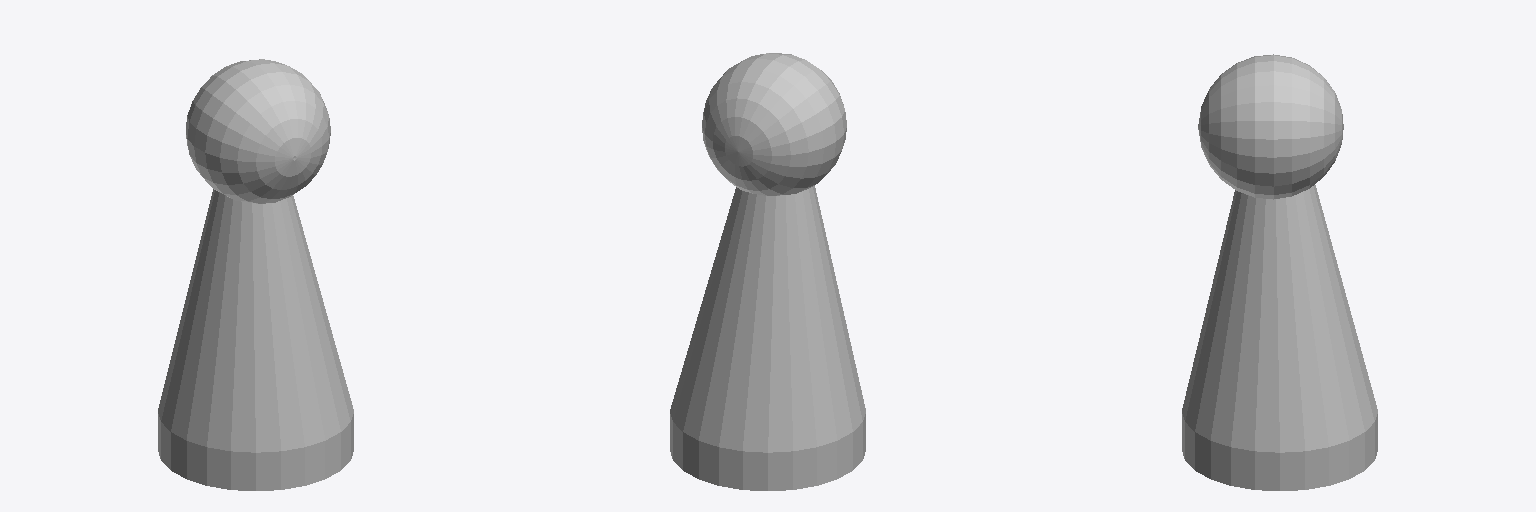
The model's file is pawn.obj.
3 renders of one model, left to right at view 1: azimuth 30°, elevation 25°; view 2: azimuth 150°, elevation 25°; view 3: azimuth 270°, elevation 25°, orthographic.
Parts seen in each view (by area): view 1: Mesh_ID2, Untitled_ID10; view 2: Mesh_ID2, Untitled_ID10; view 3: Mesh_ID2, Untitled_ID10.
Part boxes in pixels (x1,y1,x2,y2): Mesh_ID2: (158,189,353,490); Untitled_ID10: (186,59,330,203); Mesh_ID2: (670,186,865,490); Untitled_ID10: (702,53,846,195); Mesh_ID2: (1182,185,1377,490); Untitled_ID10: (1198,54,1343,199).
Size of the model in its own units: 4.05 by 8.81 by 4.05.